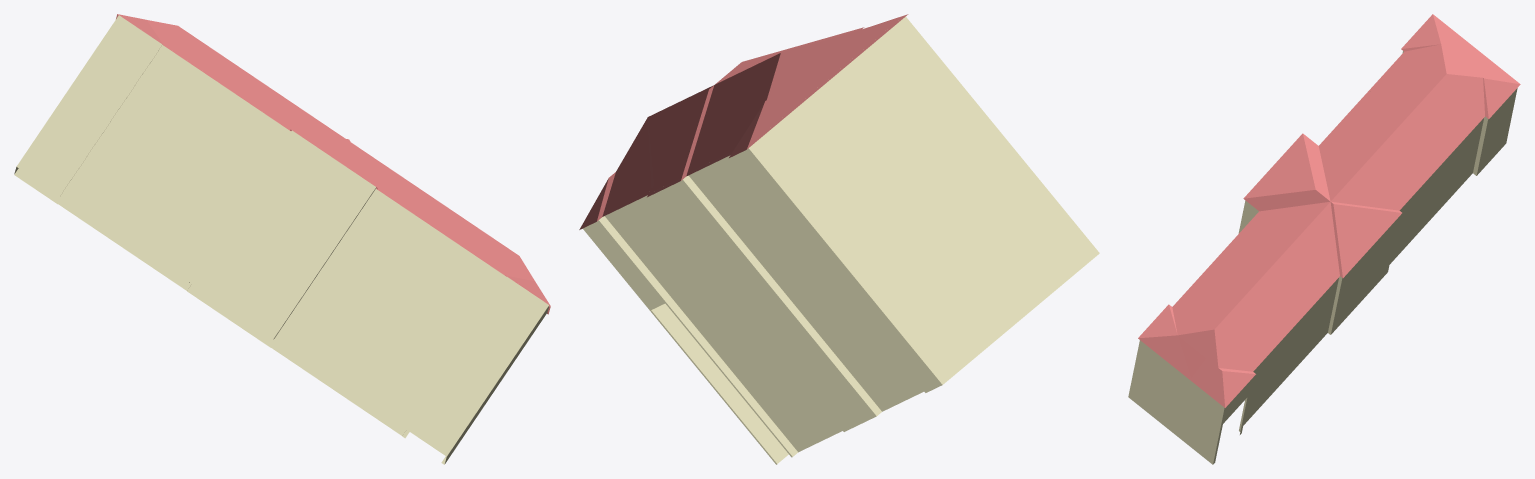
File: tile_025.glb
The picture shows the model from 3 angles, left to right: view 1: azimuth 30°, elevation 25°; view 2: azimuth 150°, elevation 25°; view 3: azimuth 270°, elevation 25°; orthographic projection. The views are drawn at different scales.
Visible parts, largest first — view 1: Batched_Building_ID_3A058C24-6823-4DC0-A770-F5D5E620DA5D; view 2: Batched_Building_ID_3A058C24-6823-4DC0-A770-F5D5E620DA5D; view 3: Batched_Building_ID_3A058C24-6823-4DC0-A770-F5D5E620DA5D.
Boxes of the visible parts, box(x1,y1,x2,y2) form: Batched_Building_ID_3A058C24-6823-4DC0-A770-F5D5E620DA5D: box(14, 14, 550, 464); Batched_Building_ID_3A058C24-6823-4DC0-A770-F5D5E620DA5D: box(579, 14, 1099, 464); Batched_Building_ID_3A058C24-6823-4DC0-A770-F5D5E620DA5D: box(1128, 14, 1520, 464).
Bounding box in the file's own units: 62.55 × 58.09 × 56.9.
